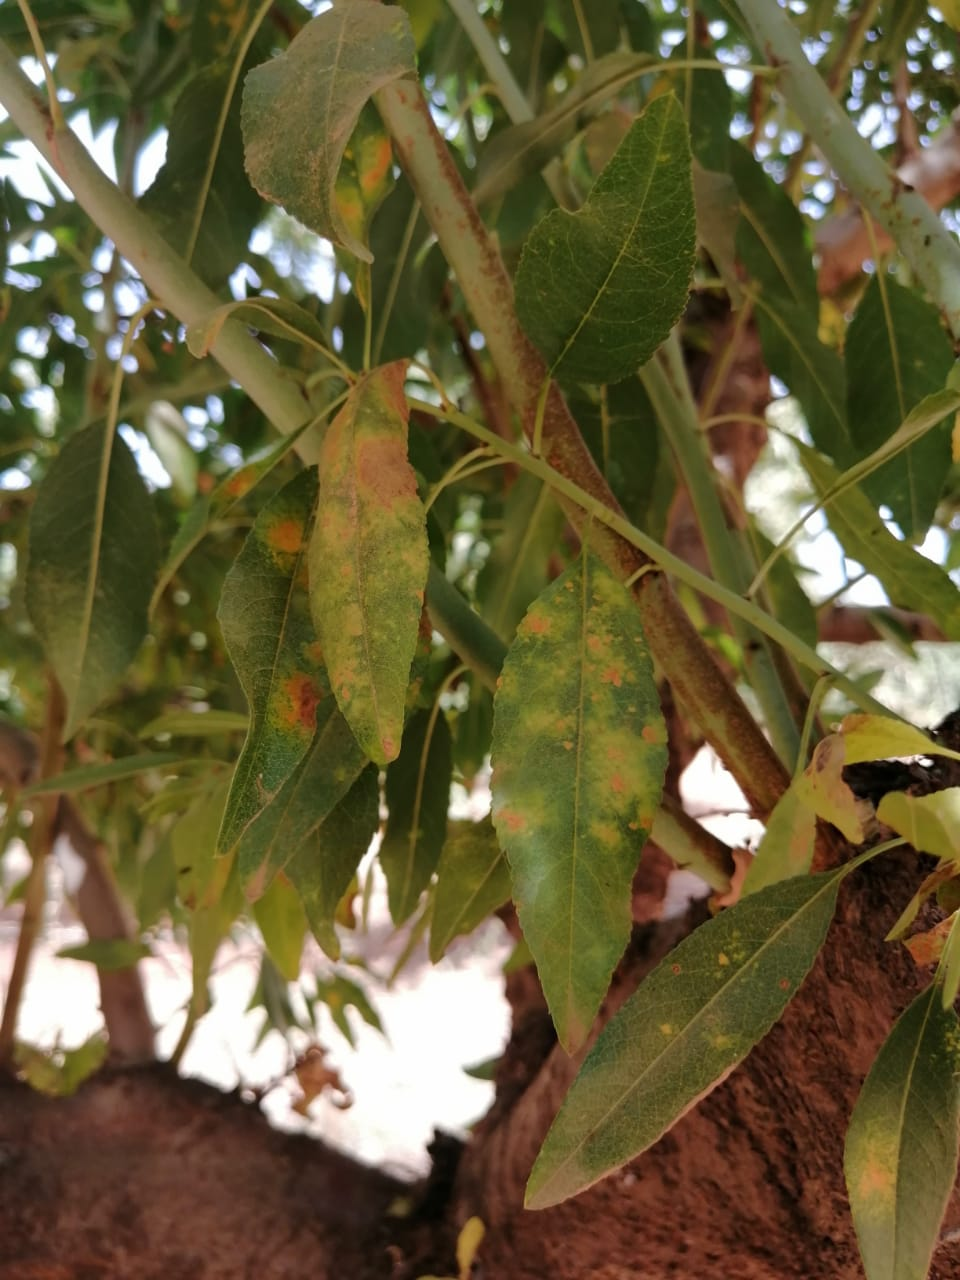polystigma: (733, 291, 956, 529), (259, 556, 371, 829), (413, 514, 541, 750), (405, 653, 486, 829), (136, 13, 240, 146), (825, 769, 906, 867), (372, 480, 430, 577)
